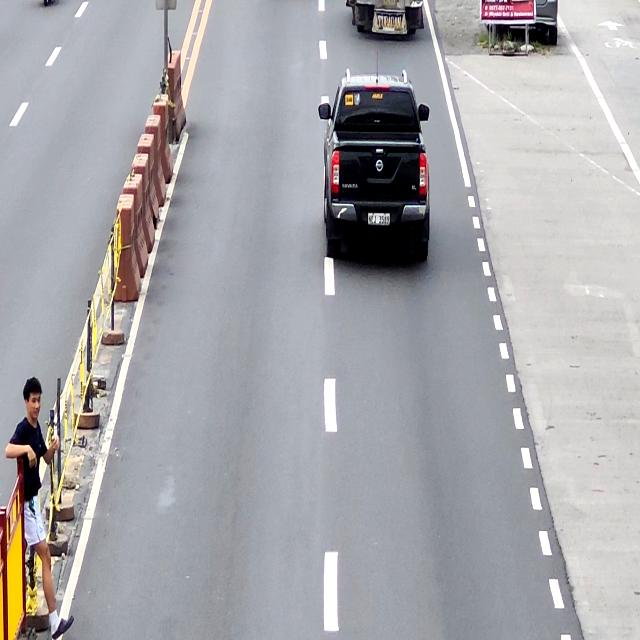Car: (319, 69, 430, 263)
License-Plate: (368, 213, 390, 226)
